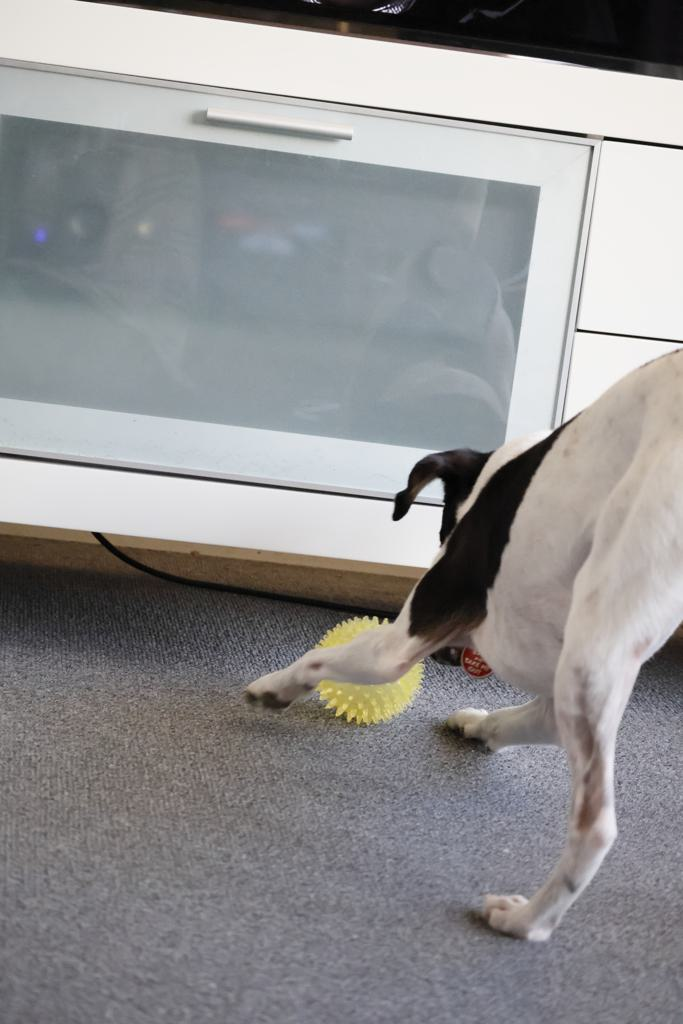Dog: (217, 345, 683, 966)
